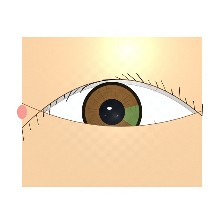pinguecula_lesion: (23, 96, 53, 120)
